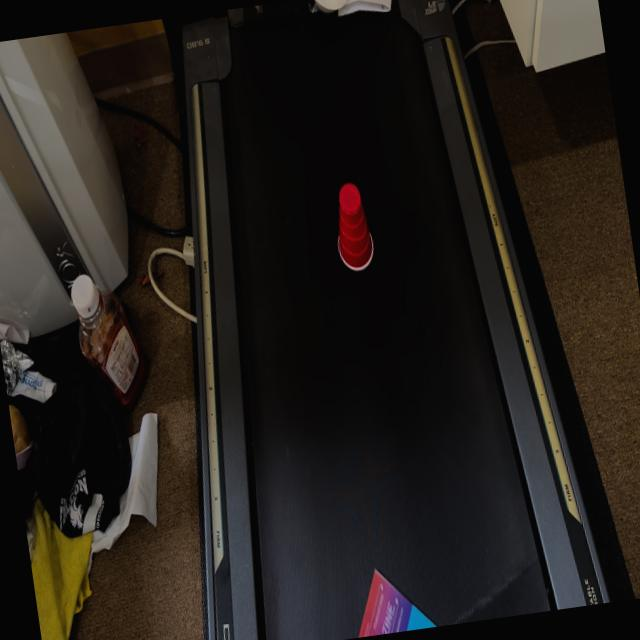Recycle: (336, 558, 440, 640), (324, 180, 382, 278)
